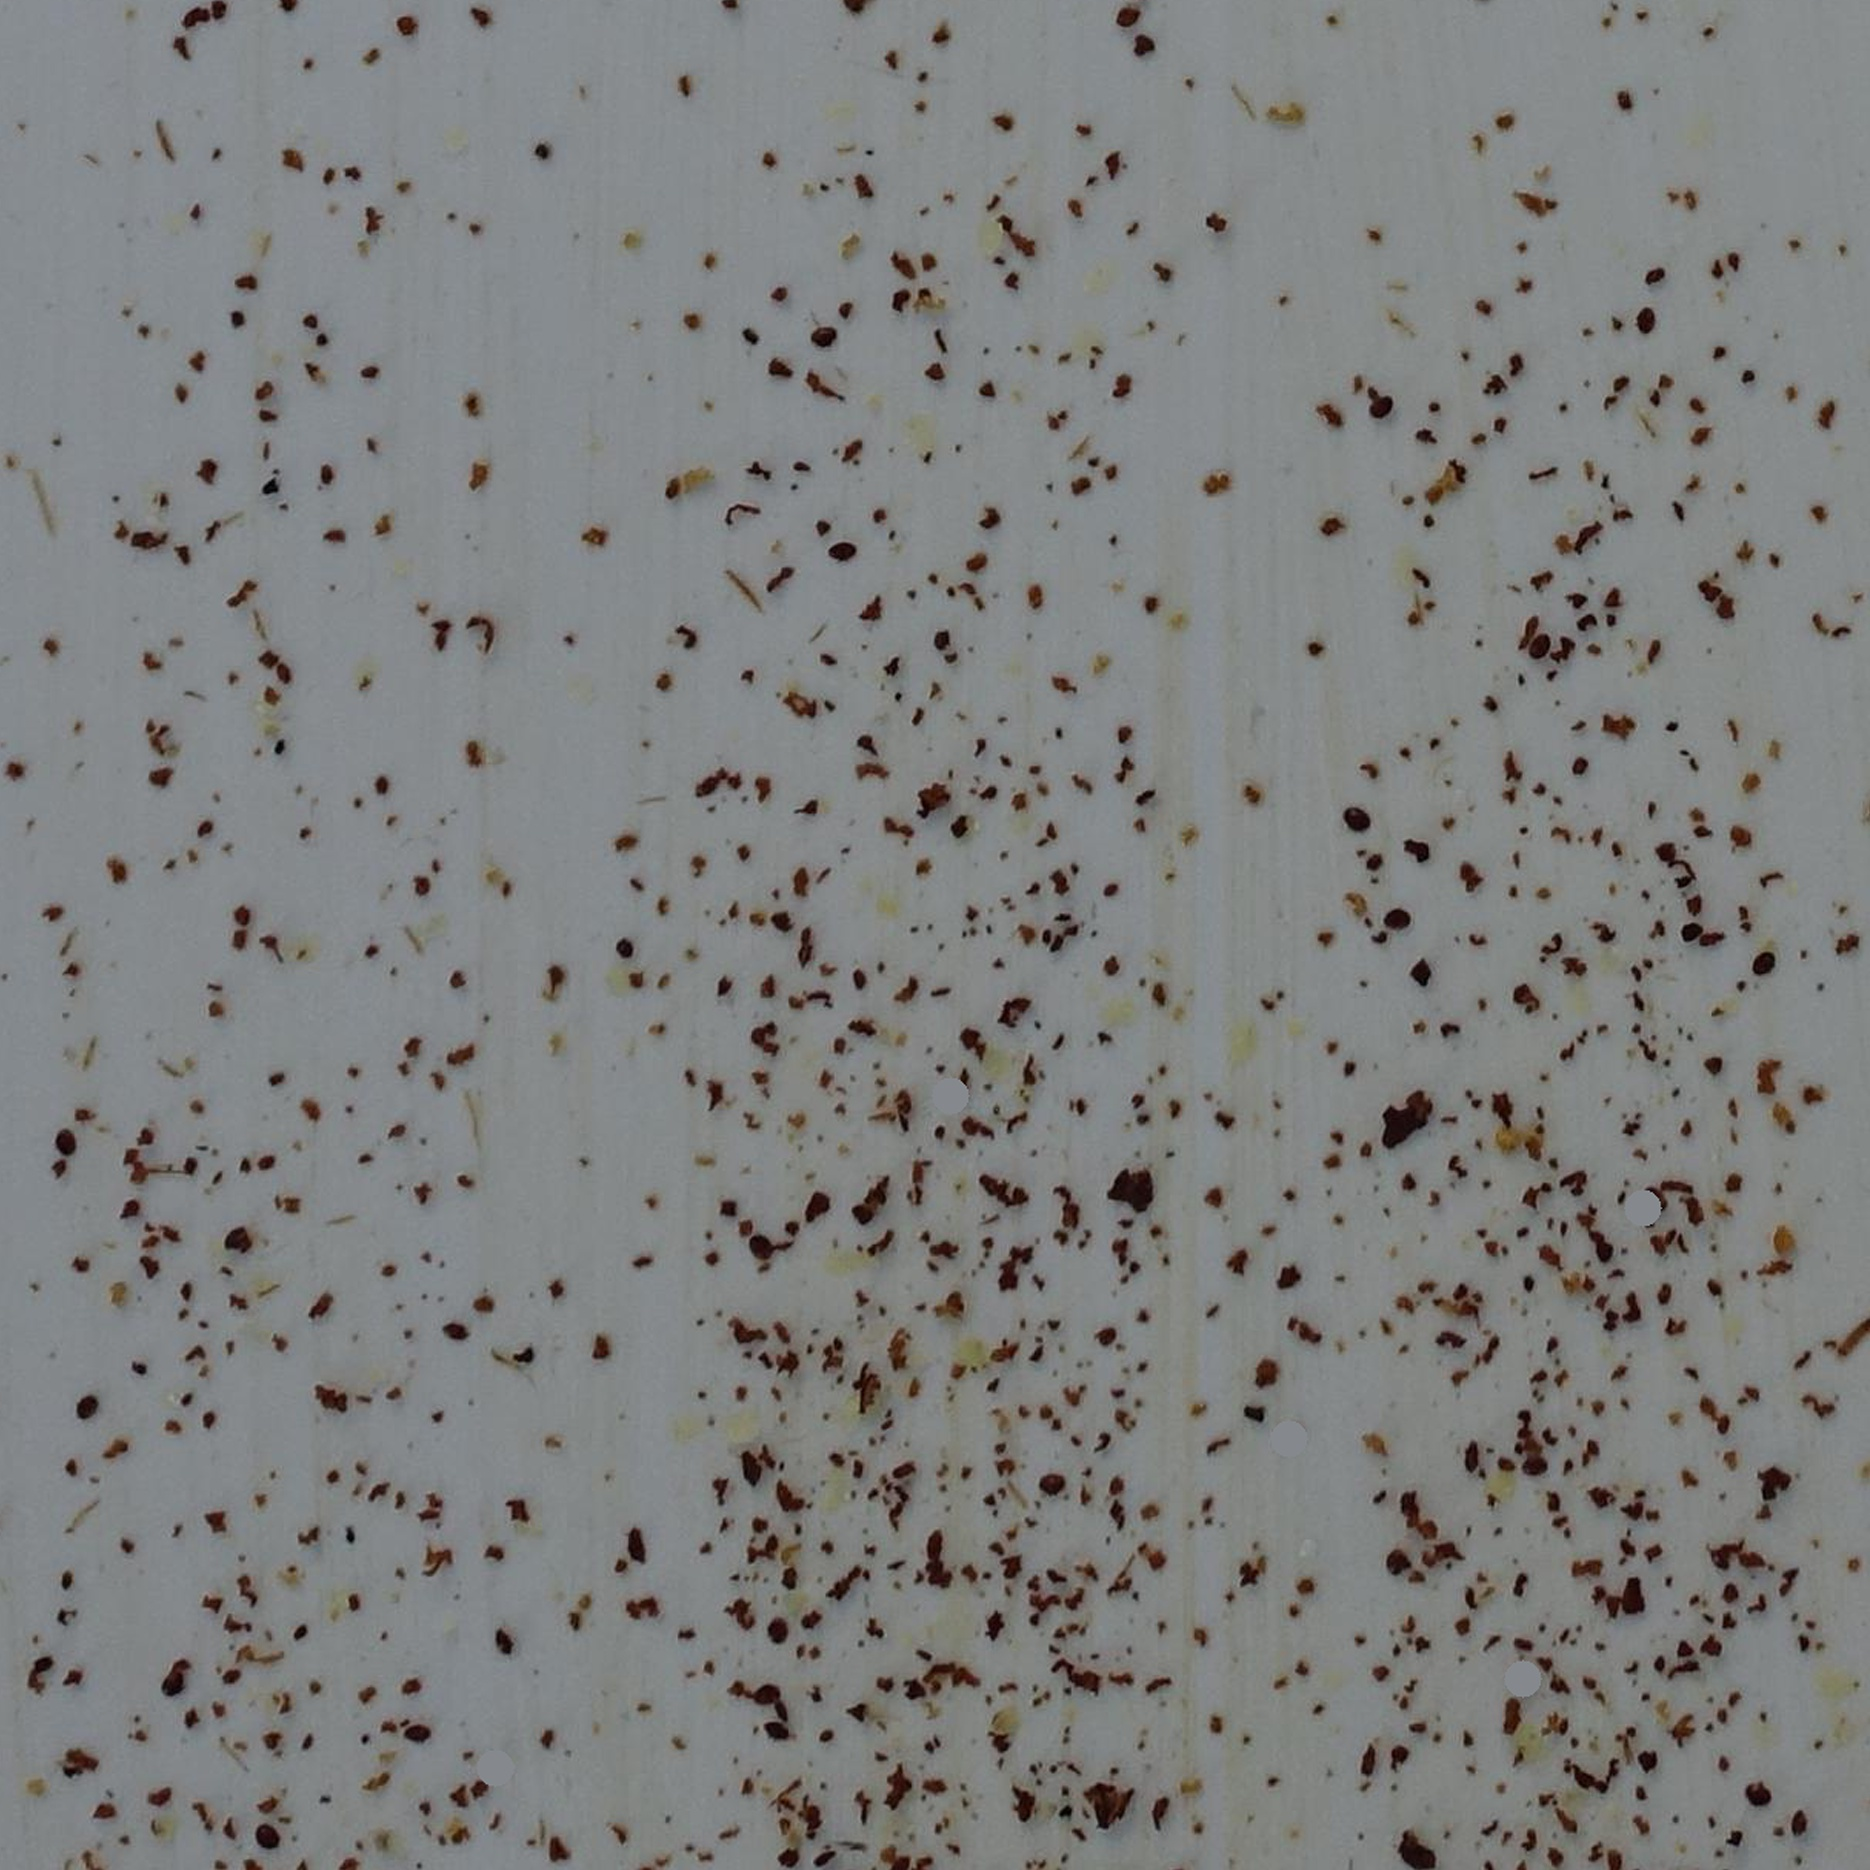Varroa: (214, 1216, 259, 1259), (764, 1622, 788, 1647), (760, 1682, 783, 1706), (401, 1719, 425, 1742), (829, 539, 851, 563), (810, 325, 832, 349), (77, 1389, 99, 1413), (159, 1675, 182, 1699), (748, 1231, 771, 1254), (1343, 812, 1365, 832), (1742, 1783, 1764, 1803), (1641, 310, 1661, 332), (1389, 909, 1409, 930), (1041, 1471, 1062, 1492), (1521, 637, 1541, 658), (1377, 1550, 1397, 1570), (255, 1827, 274, 1846), (55, 1132, 74, 1151), (1375, 392, 1392, 411), (1755, 954, 1772, 973)
